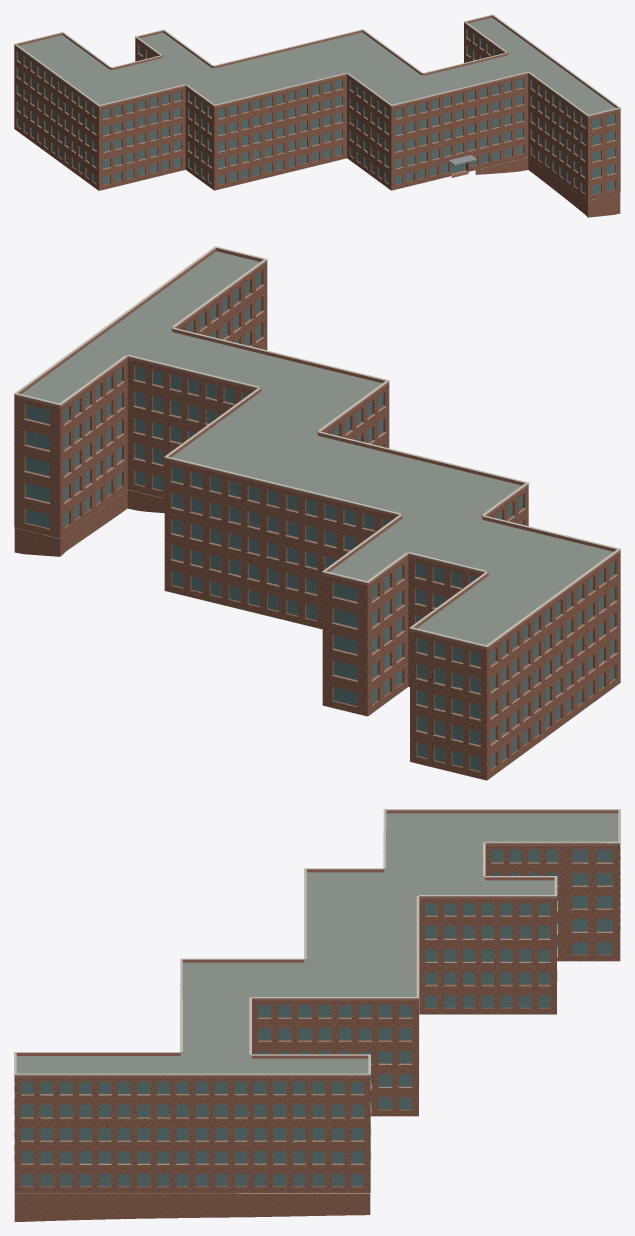
3 views of the same model, one above another, from view 1: azimuth 30°, elevation 25°; view 2: azimuth 150°, elevation 25°; view 3: azimuth 270°, elevation 25° (orthographic). The views are drawn at different scales.
Parts seen in each view (by area): view 1: dorm__wall, dorm__roof, dorm__glass, dorm__trim, dorm__frame, dorm__parapet, dorm__foundationSkirt; view 2: dorm__wall, dorm__roof, dorm__glass, dorm__trim, dorm__parapet, dorm__frame, dorm__foundationSkirt; view 3: dorm__wall, dorm__roof, dorm__glass, dorm__foundationSkirt, dorm__trim, dorm__parapet, dorm__frame.
Part boxes in pixels (x1,y1,x2,y2): dorm__wall: (14, 24, 620, 200); dorm__roof: (19, 17, 615, 194); dorm__glass: (18, 30, 615, 194); dorm__trim: (14, 14, 620, 179); dorm__frame: (18, 31, 614, 193); dorm__parapet: (14, 15, 620, 117); dorm__foundationSkirt: (475, 157, 620, 217); dorm__wall: (14, 263, 620, 780); dorm__roof: (19, 251, 613, 780); dorm__glass: (26, 272, 614, 771); dorm__trim: (14, 246, 620, 746); dorm__parapet: (14, 248, 620, 649); dorm__frame: (25, 273, 614, 769); dorm__foundationSkirt: (14, 490, 164, 556); dorm__wall: (14, 845, 620, 1192); dorm__roof: (15, 813, 618, 1193); dorm__glass: (21, 849, 612, 1186); dorm__foundationSkirt: (14, 1193, 370, 1221); dorm__trim: (14, 809, 620, 1164); dorm__parapet: (14, 810, 620, 1077); dorm__frame: (21, 849, 612, 1186).
Size of the model in its own units: 86.26 by 22.32 by 83.31.
Materials: 10 (2 with a texture image).
